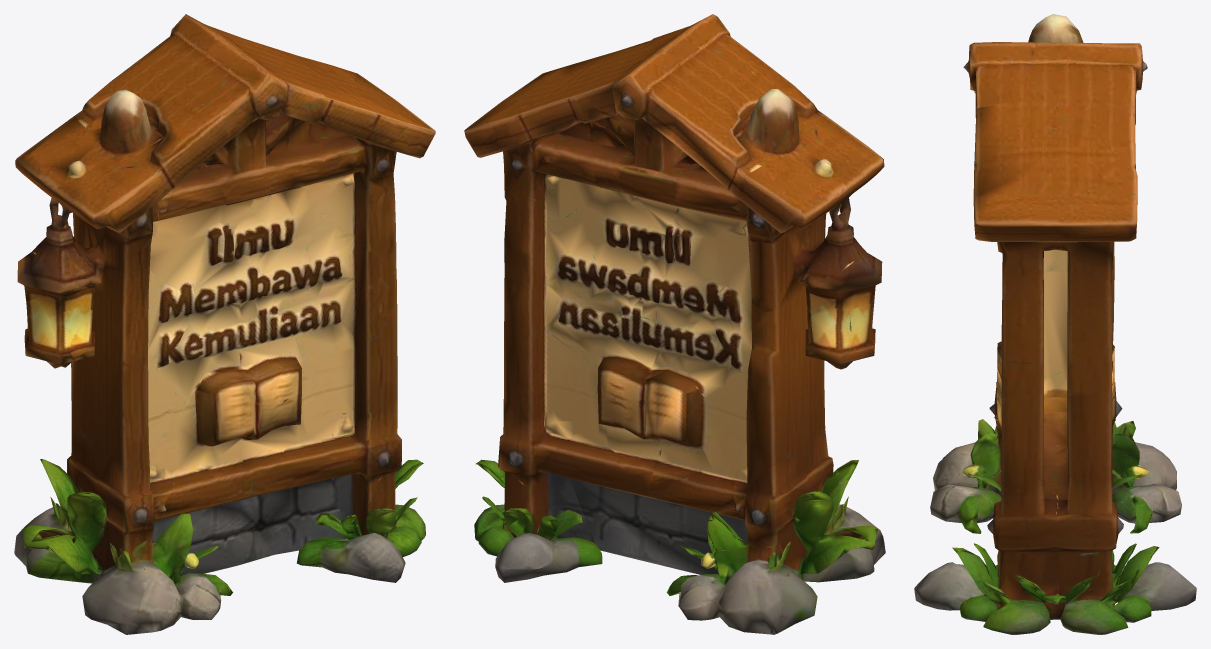
The model's file is knowledge-statue.glb.
The picture shows the model from 3 angles, left to right: view 1: azimuth 30°, elevation 25°; view 2: azimuth 150°, elevation 25°; view 3: azimuth 270°, elevation 25°; orthographic projection.
Bounding box in the file's own units: 1.57 × 1.9 × 0.9474.
Materials: 1 (1 with a texture image).
